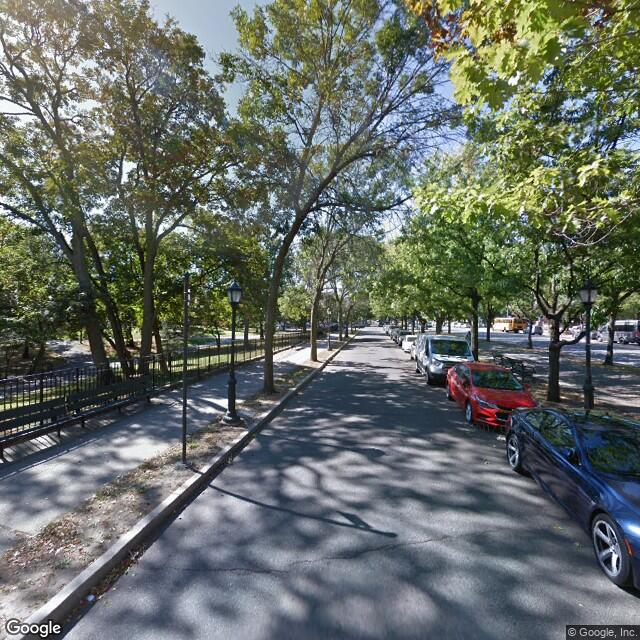litter: (85, 593, 96, 603), (495, 432, 503, 443), (571, 538, 582, 545), (576, 600, 585, 607), (109, 585, 118, 591), (130, 571, 136, 576)
